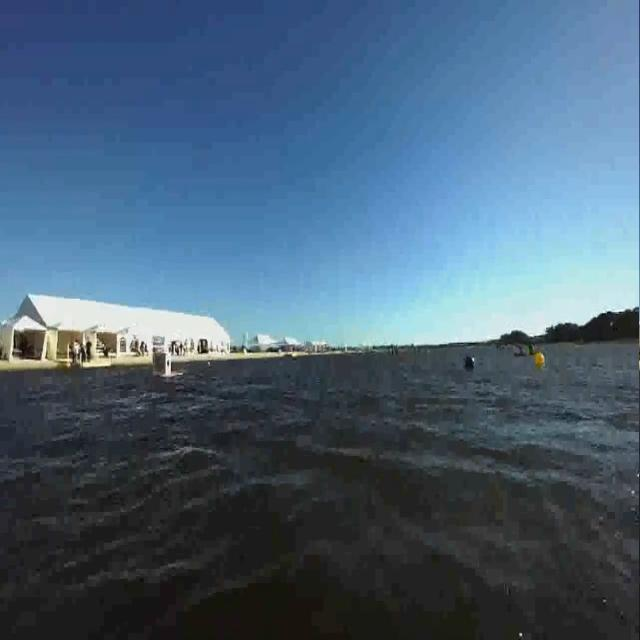black-buoy: (463, 352, 476, 370)
yellow-buoy: (533, 347, 550, 367)
